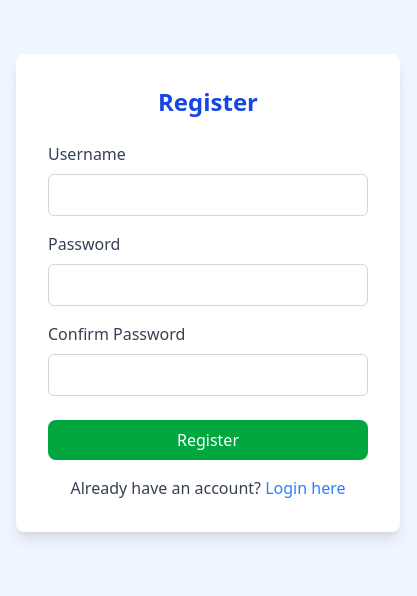
Test case: Register.tsx tests › should show error when password is too weak
This screenshot has width=417, height=596.
Type "testuser" into the field labelled "Username".
click(208, 195); type("testuser")  # box [48,174,368,216]
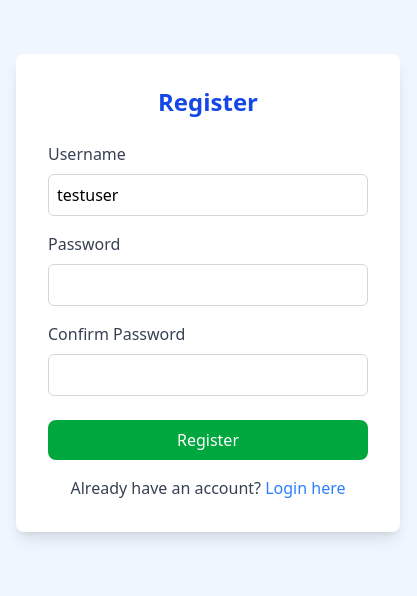
Type "weak" into the password field labelled "Password".
click(208, 285); type("weak")  # box [48,264,368,306]
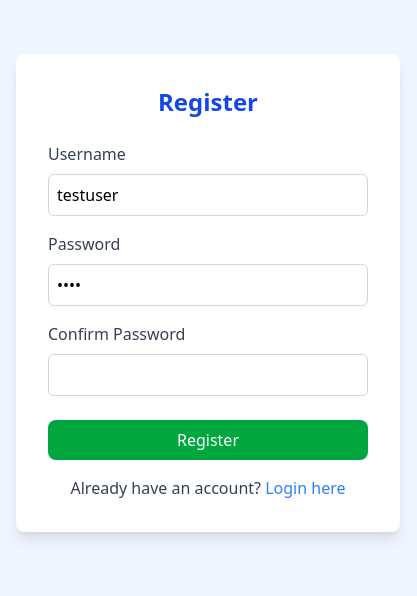
Type "weak" into the password field labelled "Confirm Password".
click(208, 375); type("weak")  # box [48,354,368,396]
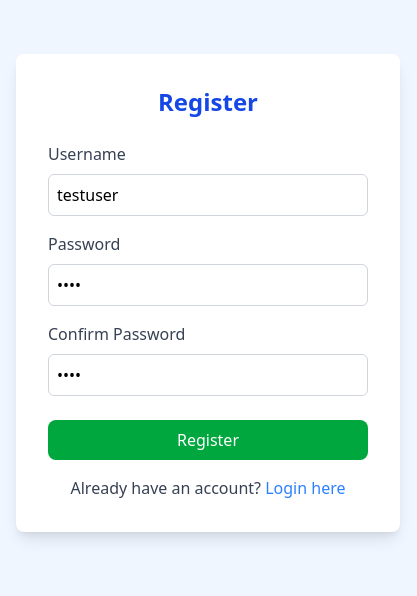
Click the button "Register".
click(208, 440)  # box [48,420,368,460]
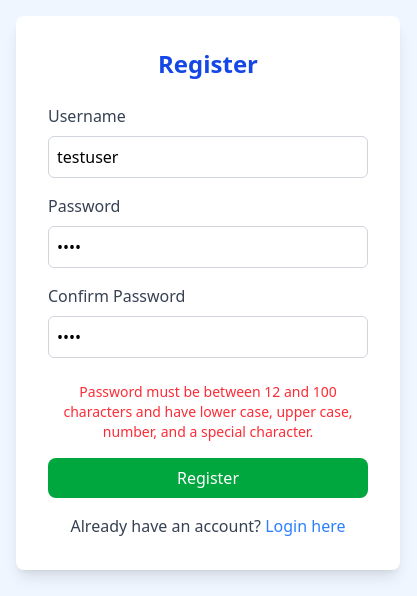
Expected: the text "Password must be between 12 and 100 characters and have lower case, upper case, number, and a special character." is shown, [63,382,352,441]
